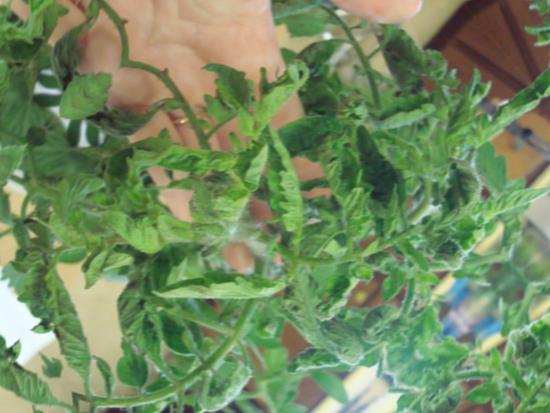Tomato leaf mosaic virus: (157, 221, 296, 356), (218, 127, 347, 262), (300, 127, 391, 224), (146, 116, 241, 208), (97, 333, 163, 401), (281, 332, 345, 394)
